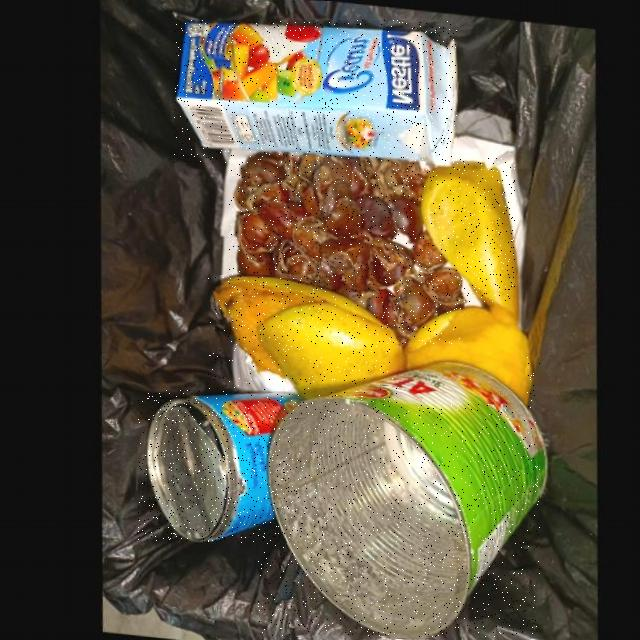biowaste: (229, 150, 461, 344), (209, 275, 400, 399), (416, 157, 515, 324), (397, 302, 527, 404)
metal: (259, 358, 540, 637), (139, 391, 299, 543)
paper: (174, 21, 457, 164)
